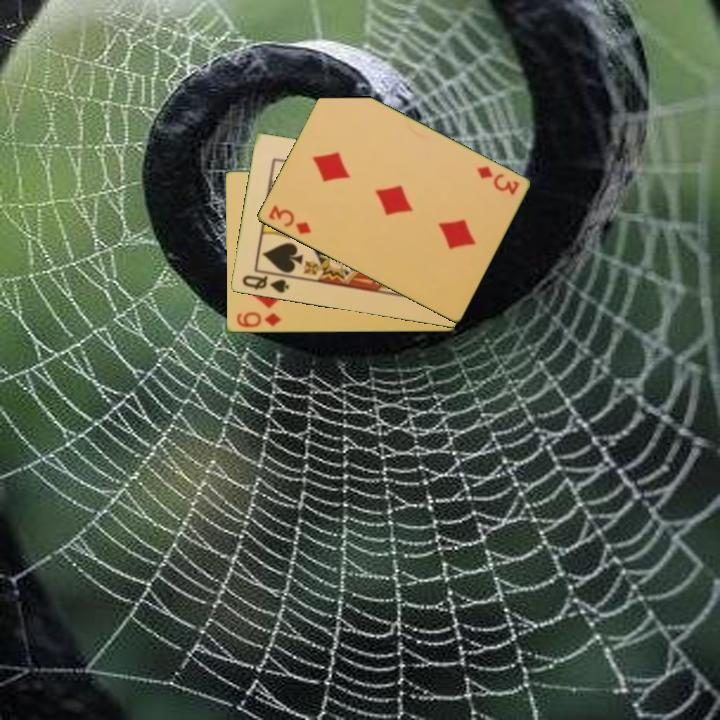3d: (264, 202, 313, 238), (472, 163, 522, 198)
6d: (233, 309, 284, 330)
Qs: (238, 272, 292, 296)
